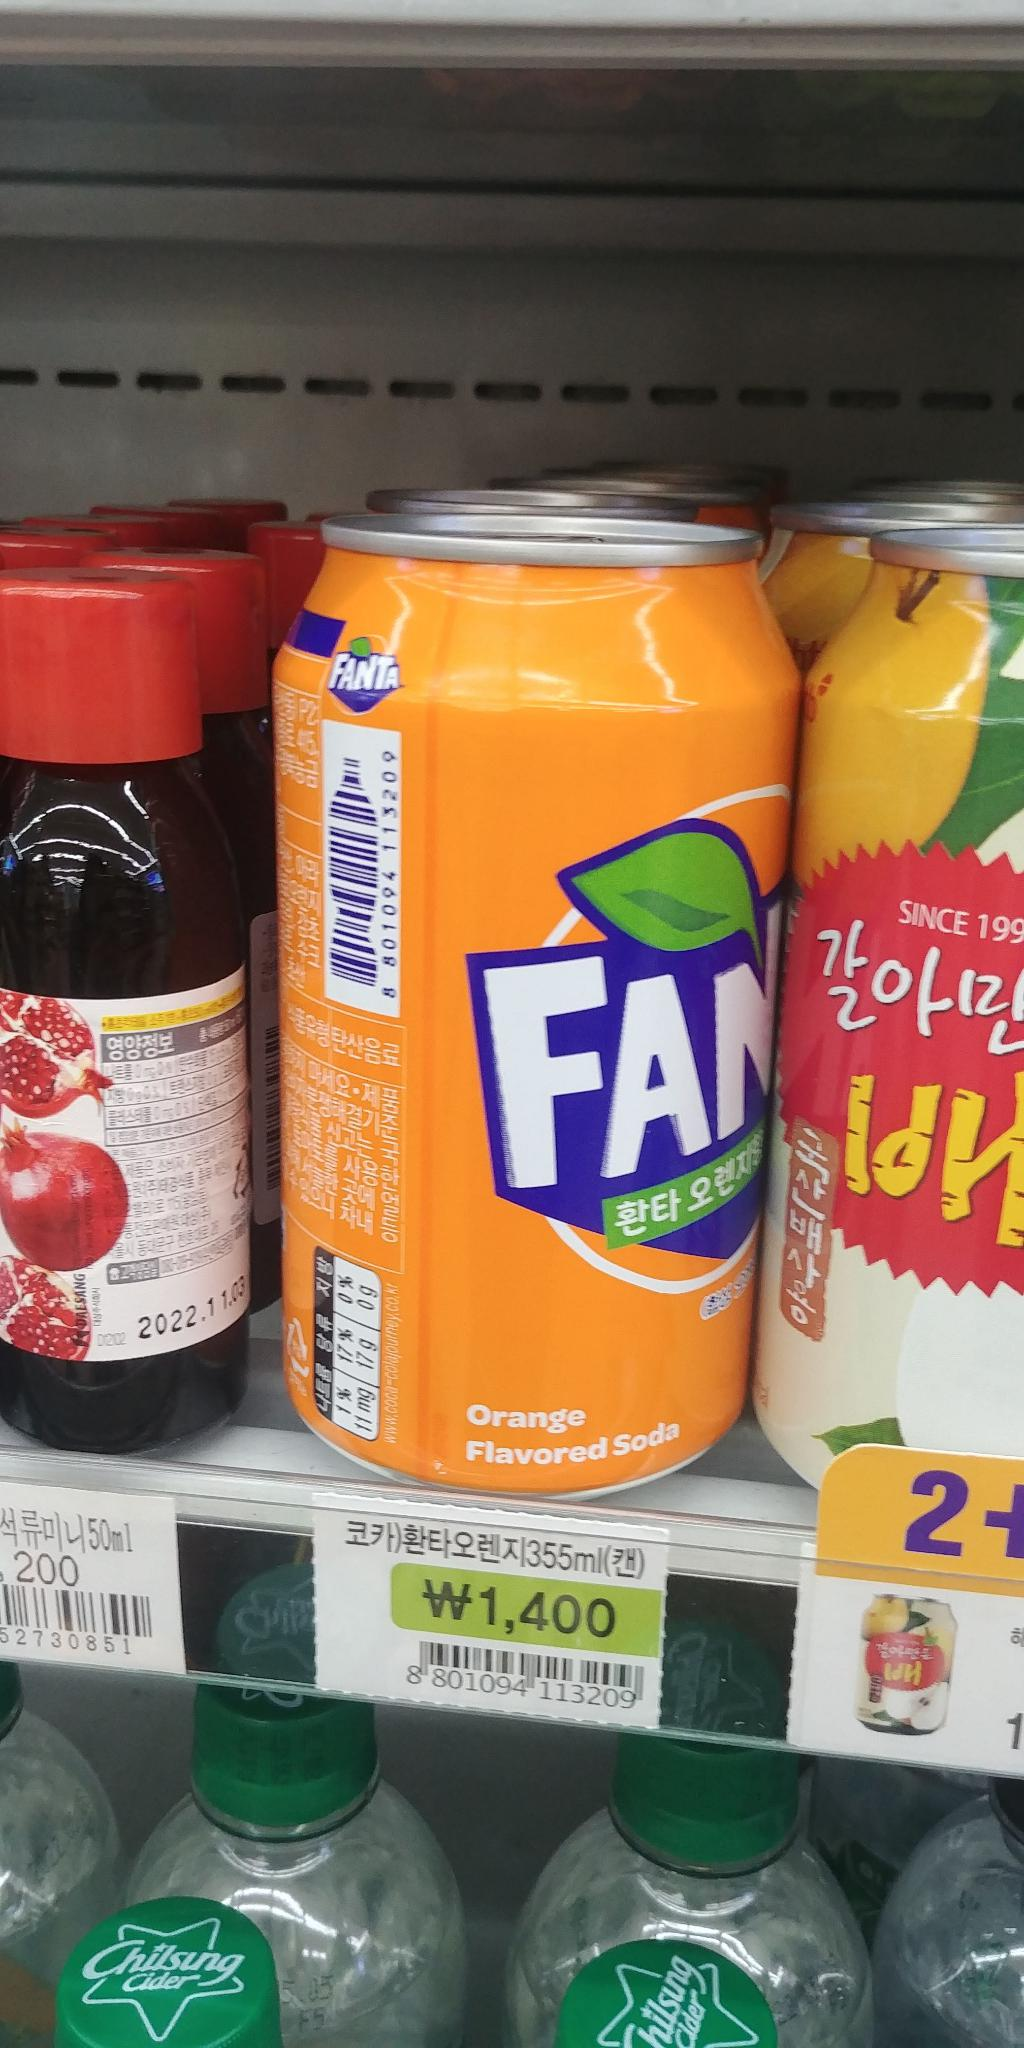fanta_orange: (281, 462, 778, 1493)
